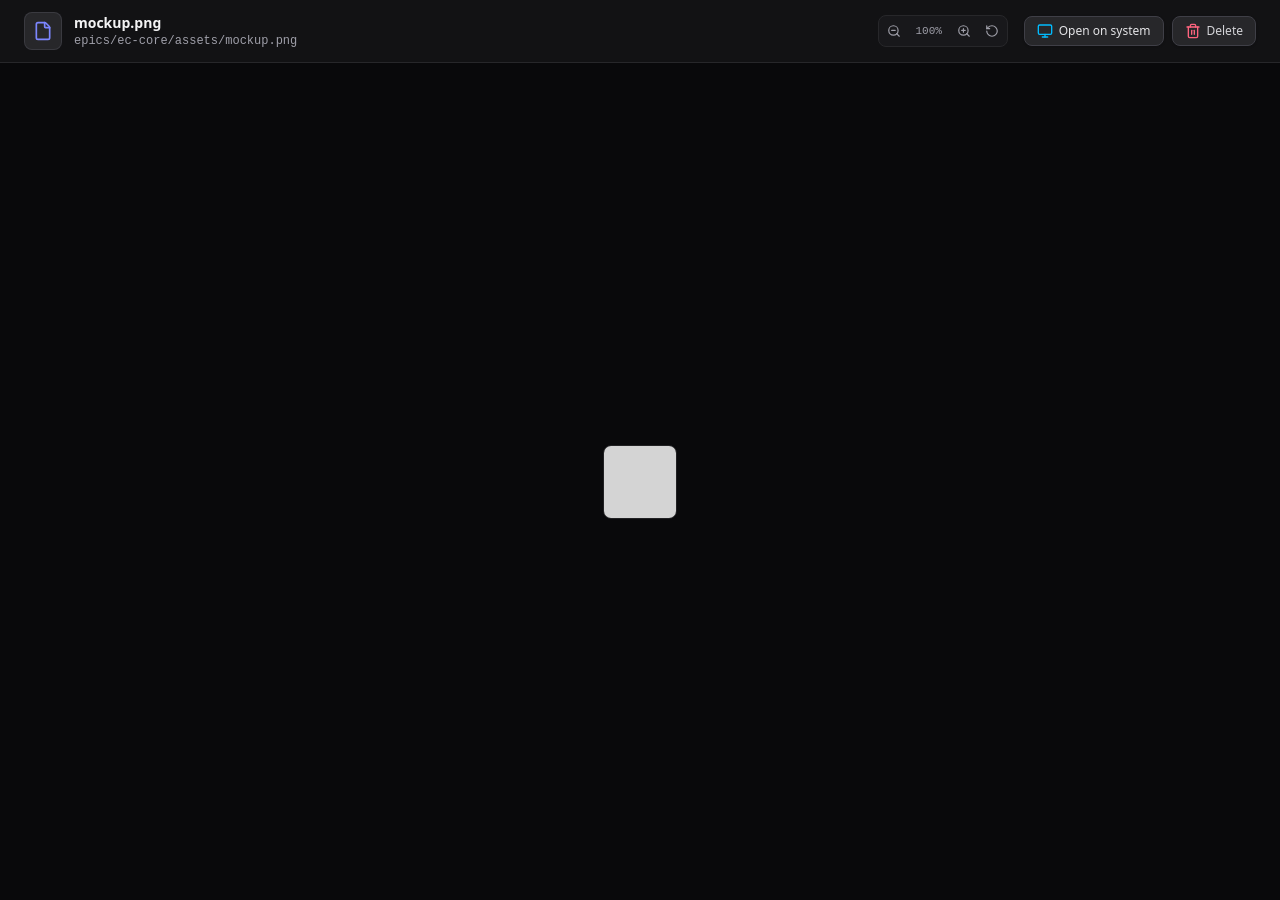
Test: AssetViewer Component › opens confirmation modal when Delete toolbar button is clicked and cancels when cancel is clicked
This screenshot has width=1280, height=900.
What coordinates should you click on to do the following:
click the button with test id "asset-delete-btn"
I would click on:
 (1214, 31)
Its box is x1=1172 y1=16 x2=1256 y2=46.
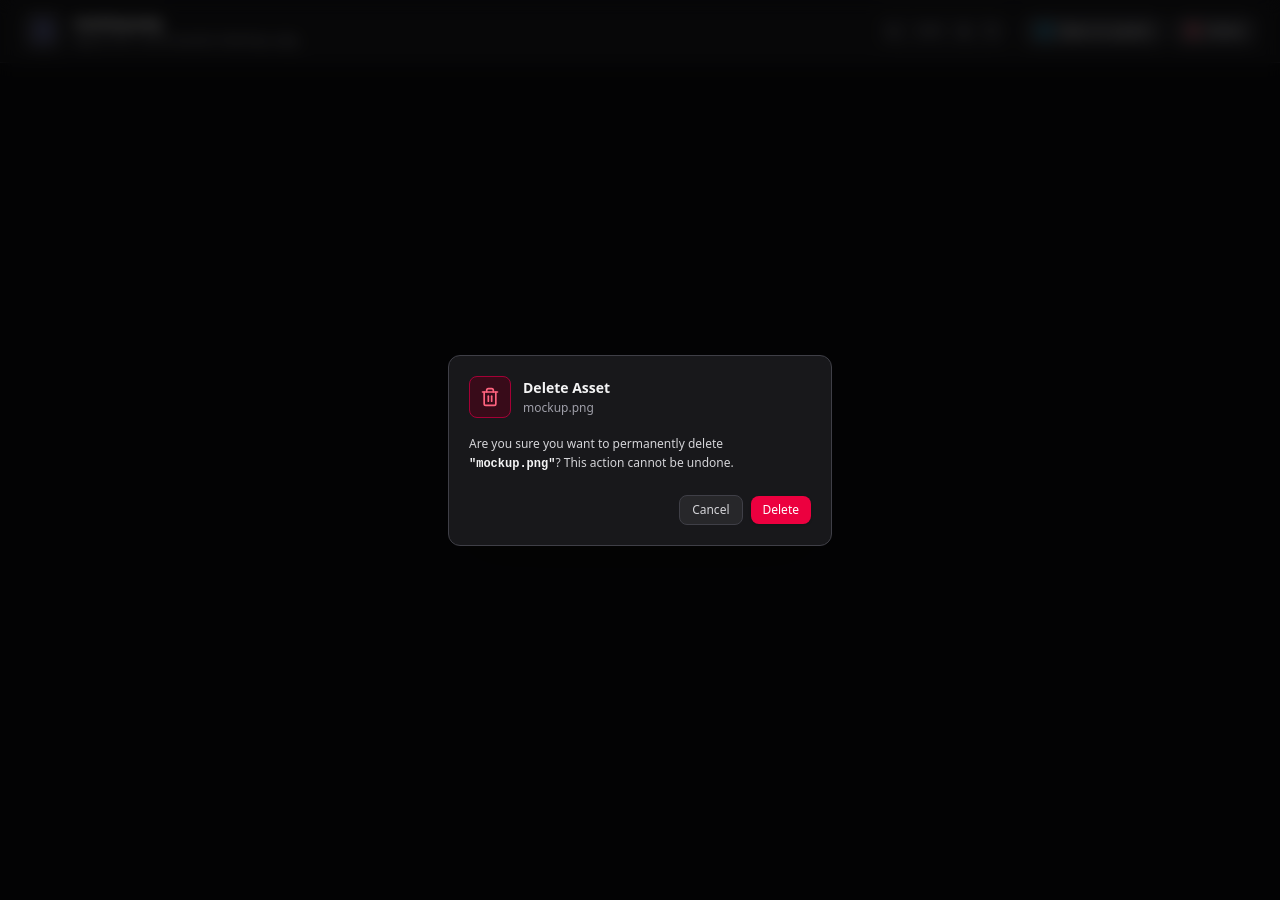
Check: the element with test id "asset-viewer-delete-dialog" is shown
Check: the text "Are you sure you want to permanently delete" is shown, box x1=469 y1=434 x2=723 y2=452
What coordinates should you click on to do the following:
click the button with test id "cancel-delete-modal-btn"
I would click on:
 (711, 510)
Its box is x1=679 y1=494 x2=742 y2=524.
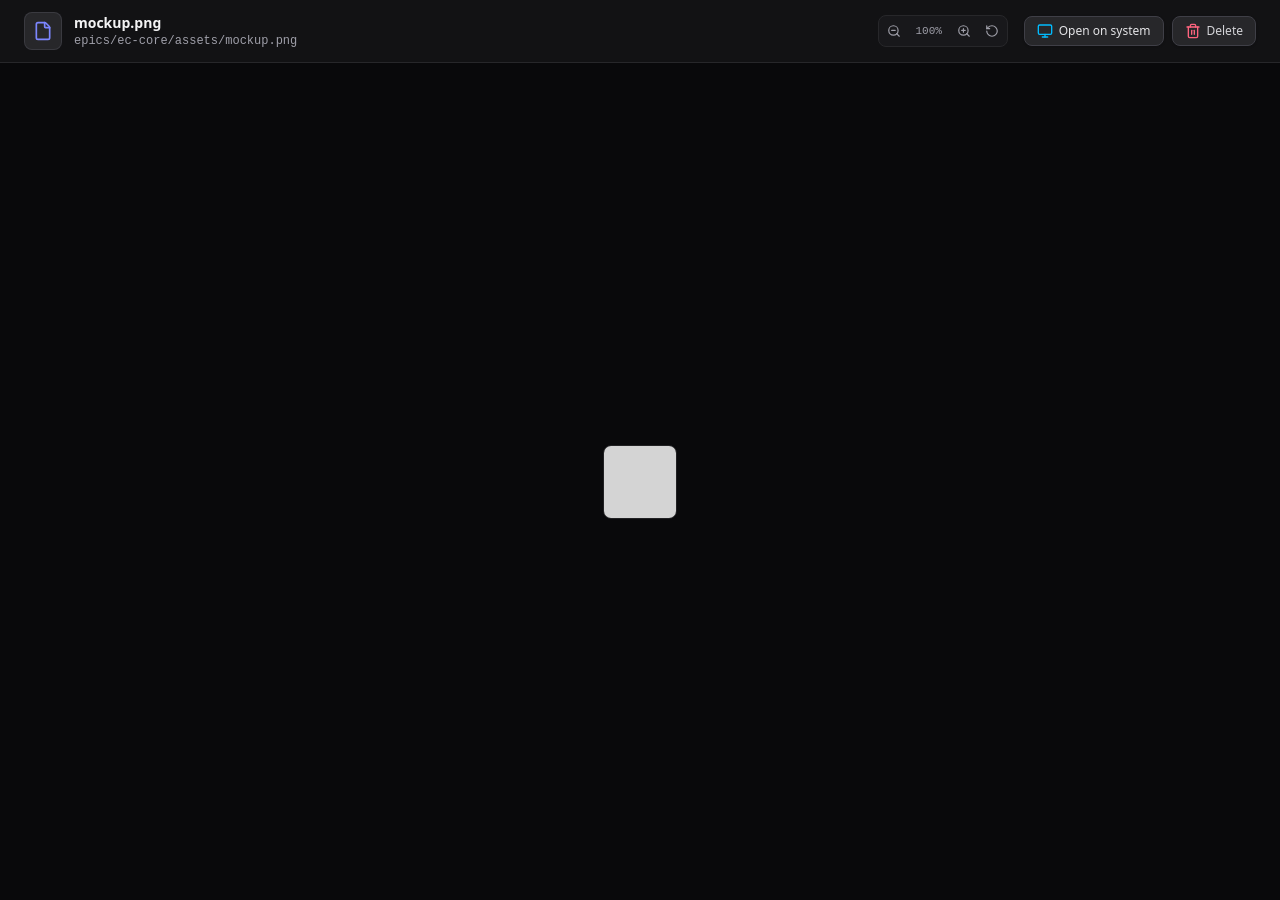
Check: the element with test id "asset-viewer-delete-dialog" is gone
